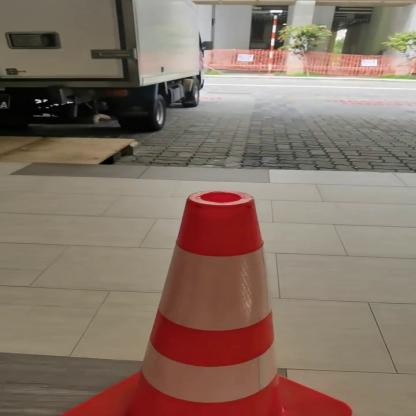cone: (50, 186, 382, 416)
